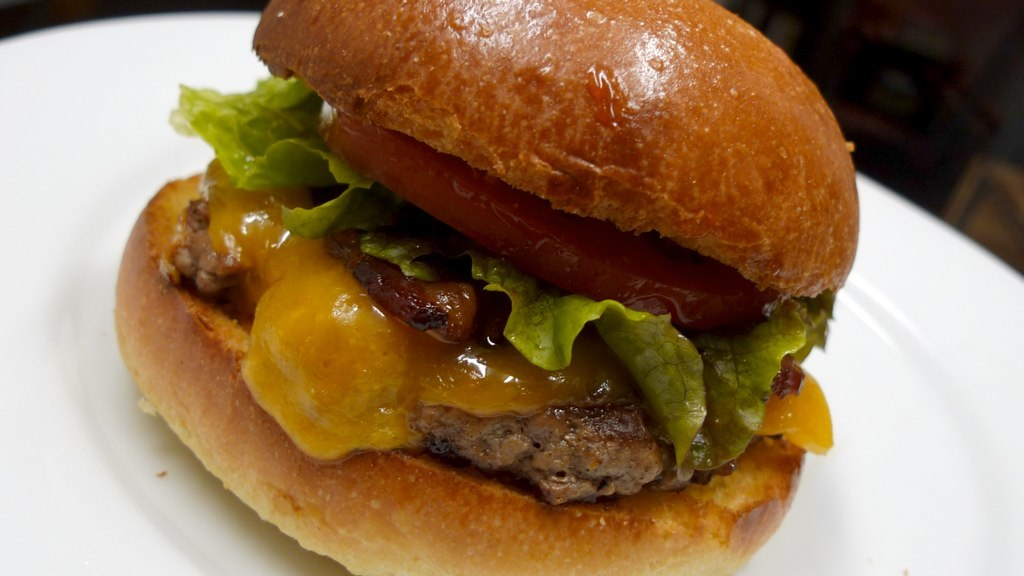Hamburger: (115, 0, 860, 575)
